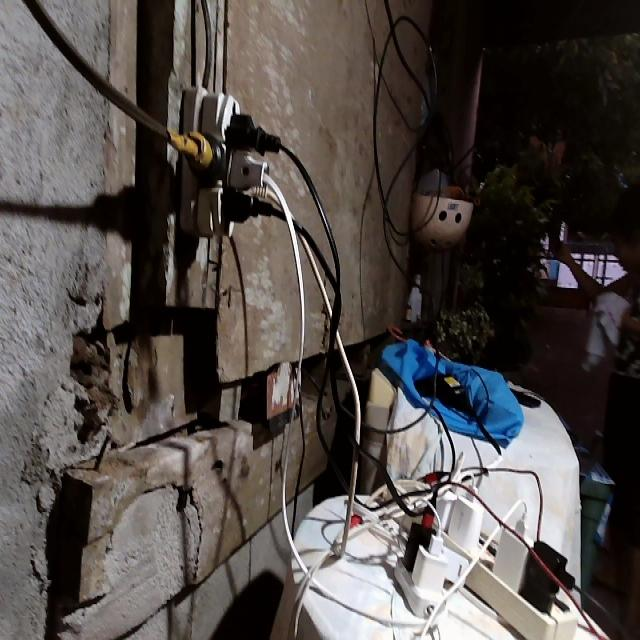-: (175, 78, 282, 242)
